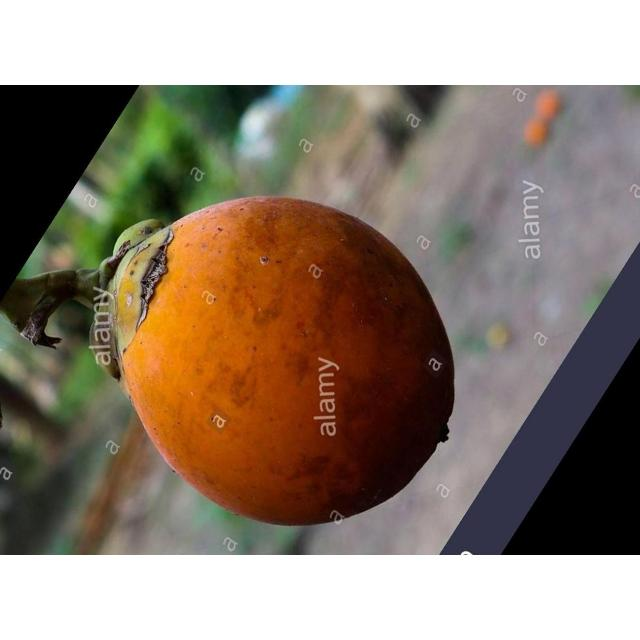good: (89, 197, 455, 529)
